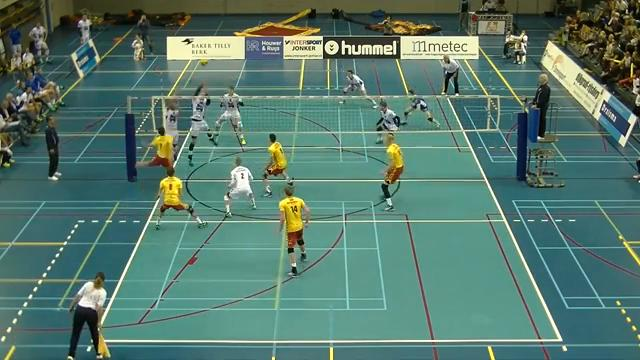Attack: (132, 120, 176, 188)
Block: (186, 78, 218, 168), (214, 83, 247, 147), (158, 84, 183, 151)
Player: (156, 168, 206, 228), (279, 186, 309, 276), (224, 157, 255, 216), (263, 134, 292, 196), (381, 134, 403, 211), (400, 89, 439, 127), (343, 70, 376, 107), (376, 101, 399, 143)
ball: (199, 57, 209, 68)
